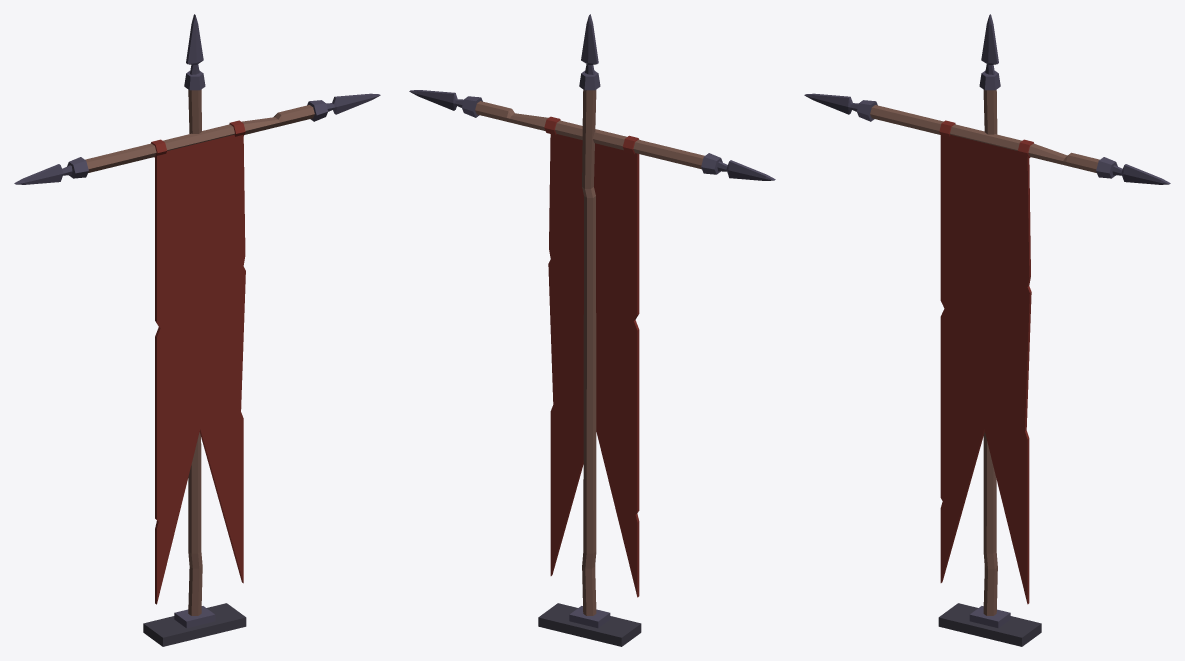
The model's file is banner.glb.
3 renders of one model, left to right at view 1: azimuth 30°, elevation 25°; view 2: azimuth 150°, elevation 25°; view 3: azimuth 330°, elevation 25°, orthographic.
Visible parts, largest first — view 1: Banner; view 2: Banner; view 3: Banner.
Boxes of the visible parts, x1,y1,x2,y2 form: Banner: [14, 14, 380, 646]; Banner: [409, 14, 775, 646]; Banner: [804, 14, 1170, 646].
Size of the model in its own units: 2.36 by 3.8 by 0.2193.
